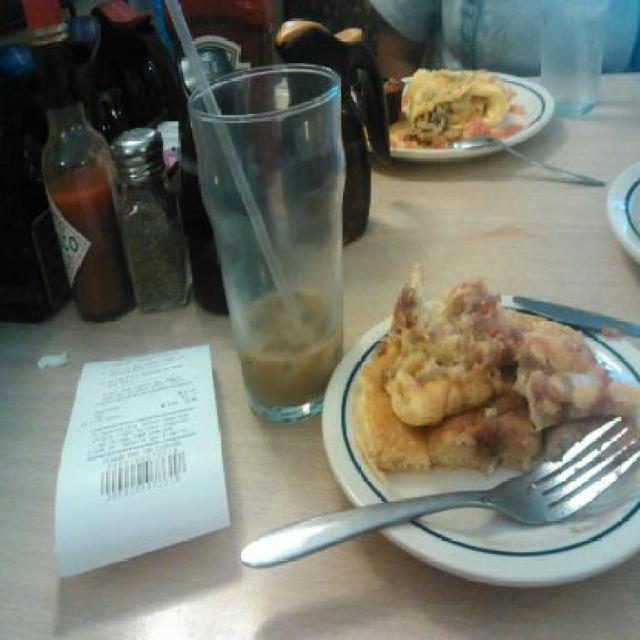omelette: (408, 63, 512, 139)
pancakes: (358, 278, 634, 480)
